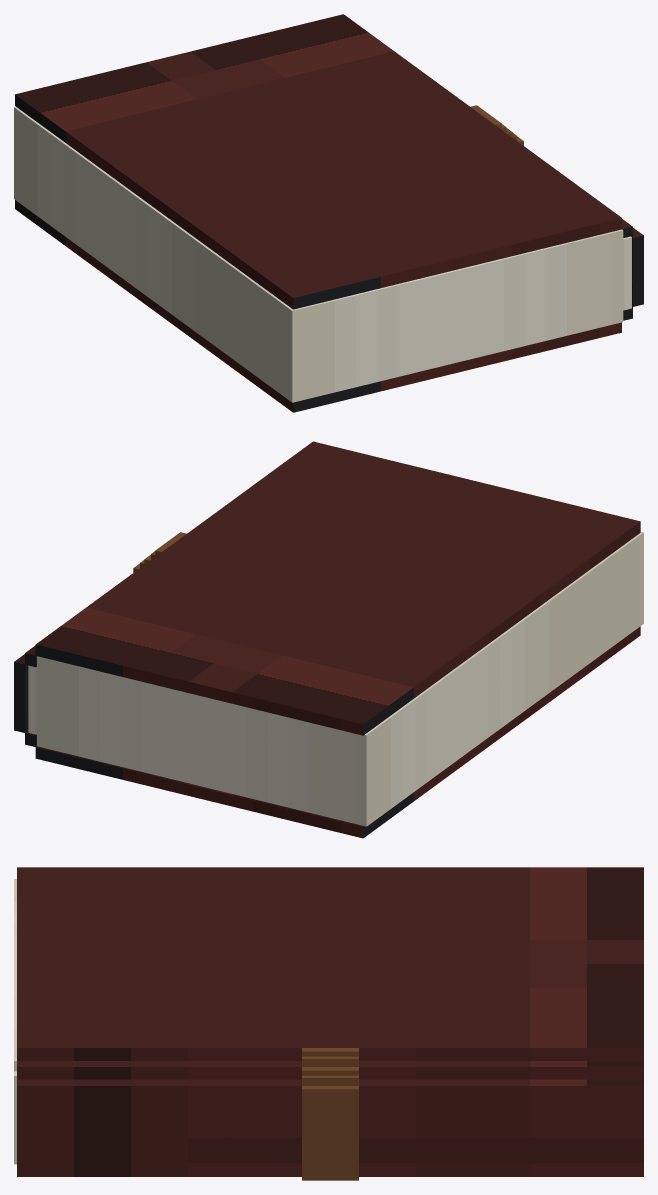
File: single_book.gltf
3 views of the same model, one above another, from view 1: azimuth 30°, elevation 25°; view 2: azimuth 150°, elevation 25°; view 3: azimuth 270°, elevation 25° (orthographic). The views are drawn at different scales.
Parts seen in each view (by area): view 1: cube (×5); view 2: cube (×5); view 3: cube (×11).
Boxes of the visible parts, x1,y1,x2,y2 form: cube (×5): (14,14,643,412); cube (×5): (14,441,643,838); cube (×11): (14,867,643,1176).
Bounding box in the file's own units: 0.5125 × 0.1562 × 0.6906.
3 materials, 3 textured.
